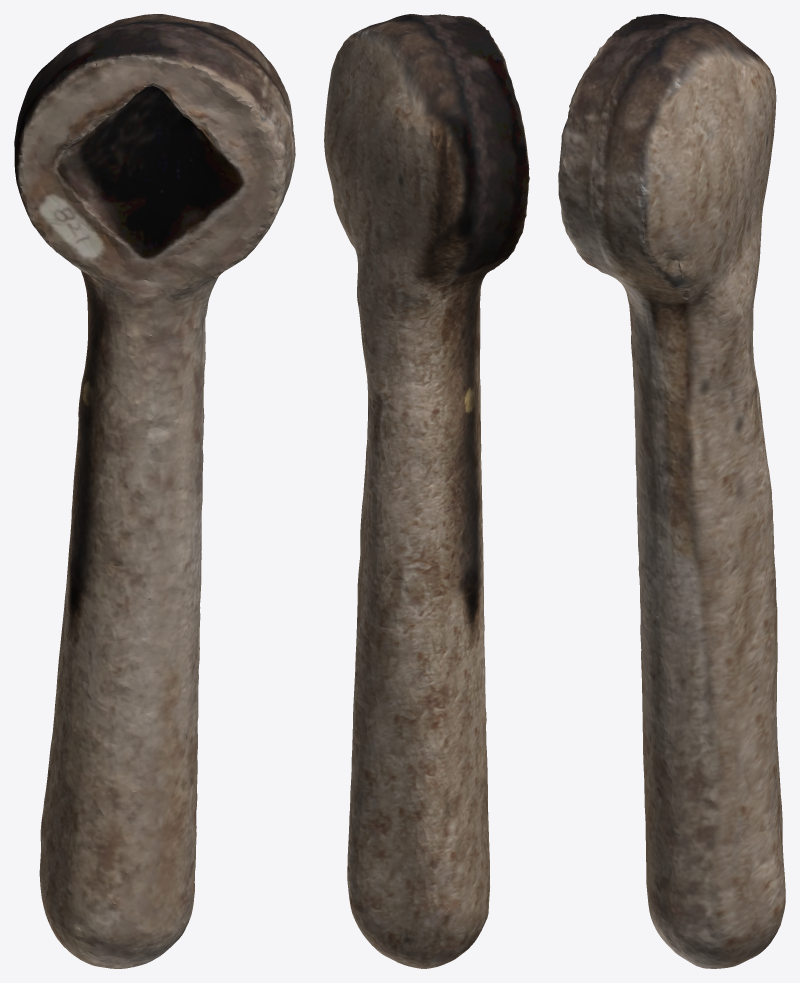
File: Wrench.dae
3 views of the same model, side by side, from view 1: azimuth 30°, elevation 25°; view 2: azimuth 150°, elevation 25°; view 3: azimuth 270°, elevation 25° (orthographic). The views are drawn at different scales.
Visible parts, largest first — view 1: Polygonal_Model_1_Triangles_1; view 2: Polygonal_Model_1_Triangles_1; view 3: Polygonal_Model_1_Triangles_1.
Boxes of the visible parts, left/top/right/bottom form: Polygonal_Model_1_Triangles_1: left=14, top=14, right=295, bottom=968; Polygonal_Model_1_Triangles_1: left=324, top=14, right=529, bottom=968; Polygonal_Model_1_Triangles_1: left=558, top=14, right=785, bottom=968.
Bounding box in the file's own units: 0.4506 × 0.3733 × 1.7.
1 material, 1 textured.
